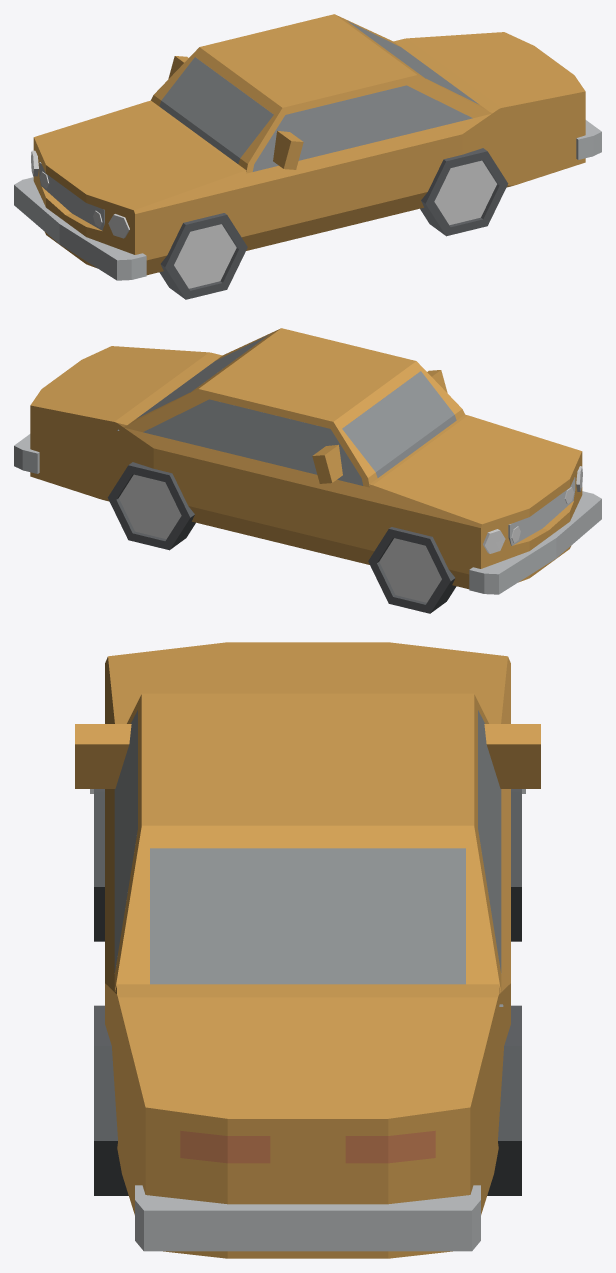
File: Car.glb
3 views of the same model, one above another, from view 1: azimuth 30°, elevation 25°; view 2: azimuth 150°, elevation 25°; view 3: azimuth 270°, elevation 25° (orthographic). The views are drawn at different scales.
Parts seen in each view (by area): view 1: Mesh_Mesh_head_geo.001_lambert2SG.001; view 2: Mesh_Mesh_head_geo.001_lambert2SG.001; view 3: Mesh_Mesh_head_geo.001_lambert2SG.001.
Boxes of the visible parts, x1,y1,x2,y2 form: Mesh_Mesh_head_geo.001_lambert2SG.001: (14, 14, 601, 299); Mesh_Mesh_head_geo.001_lambert2SG.001: (14, 328, 601, 613); Mesh_Mesh_head_geo.001_lambert2SG.001: (75, 642, 540, 1258).
Size of the model in its own units: 77 by 23 by 31.
